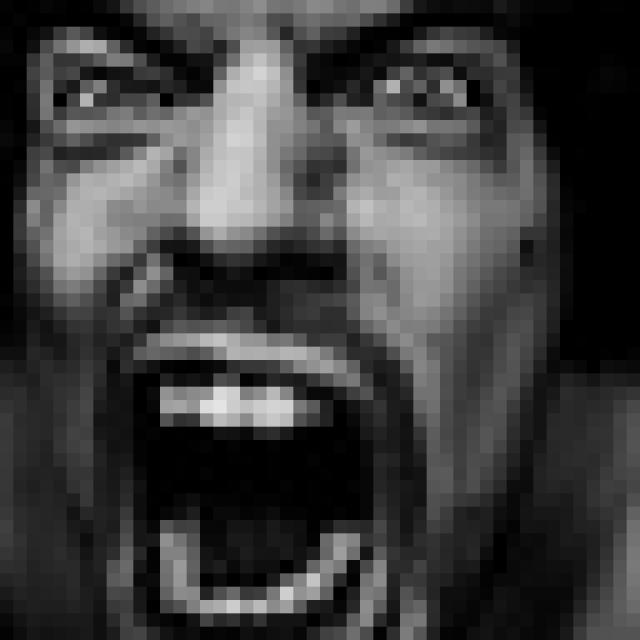angry: (28, 5, 507, 640)
